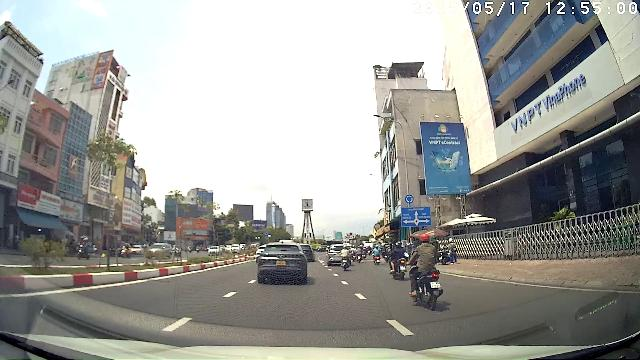303-noi-giao-nhau-chay-theo-vong-xuyen: (404, 195, 414, 204)
